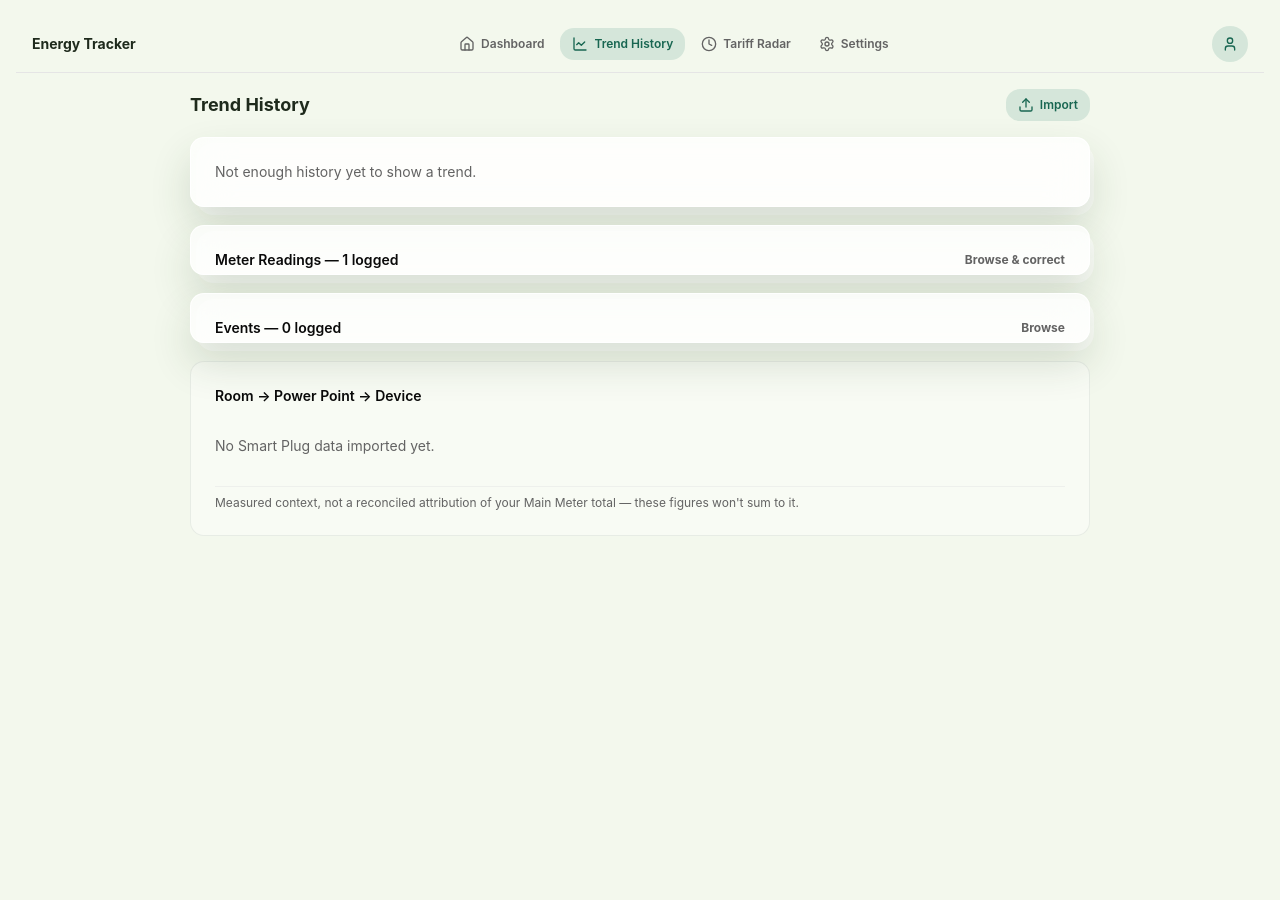
TrendHistoryPage › re-fetches Status history after a Meter Reading correction is saved (AC #3)
Click the heading "Meter Readings — 1 logged": [307, 260] box [215, 250, 398, 270]
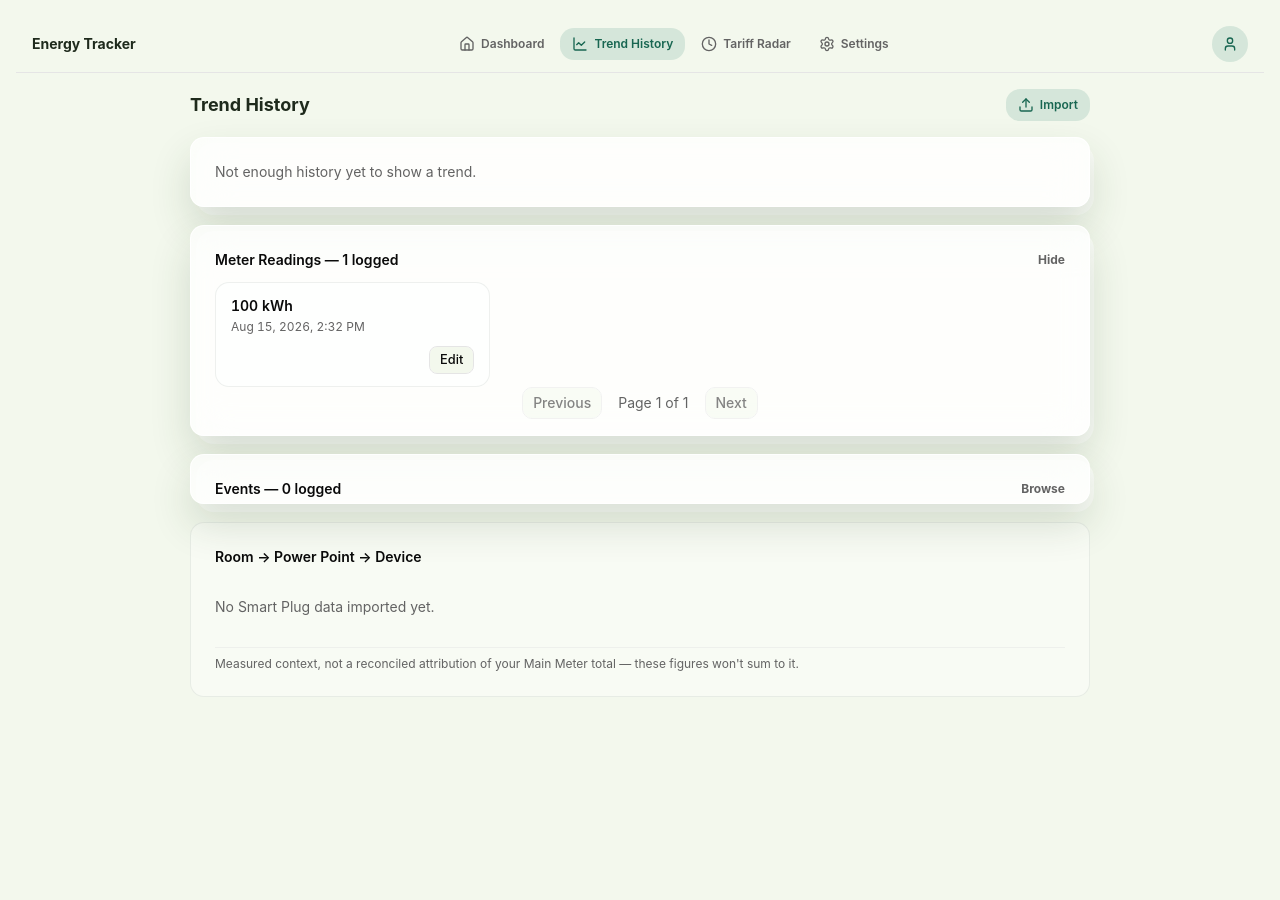
Click the button with aria-label "Edit reading from": [452, 360] box [429, 346, 474, 374]
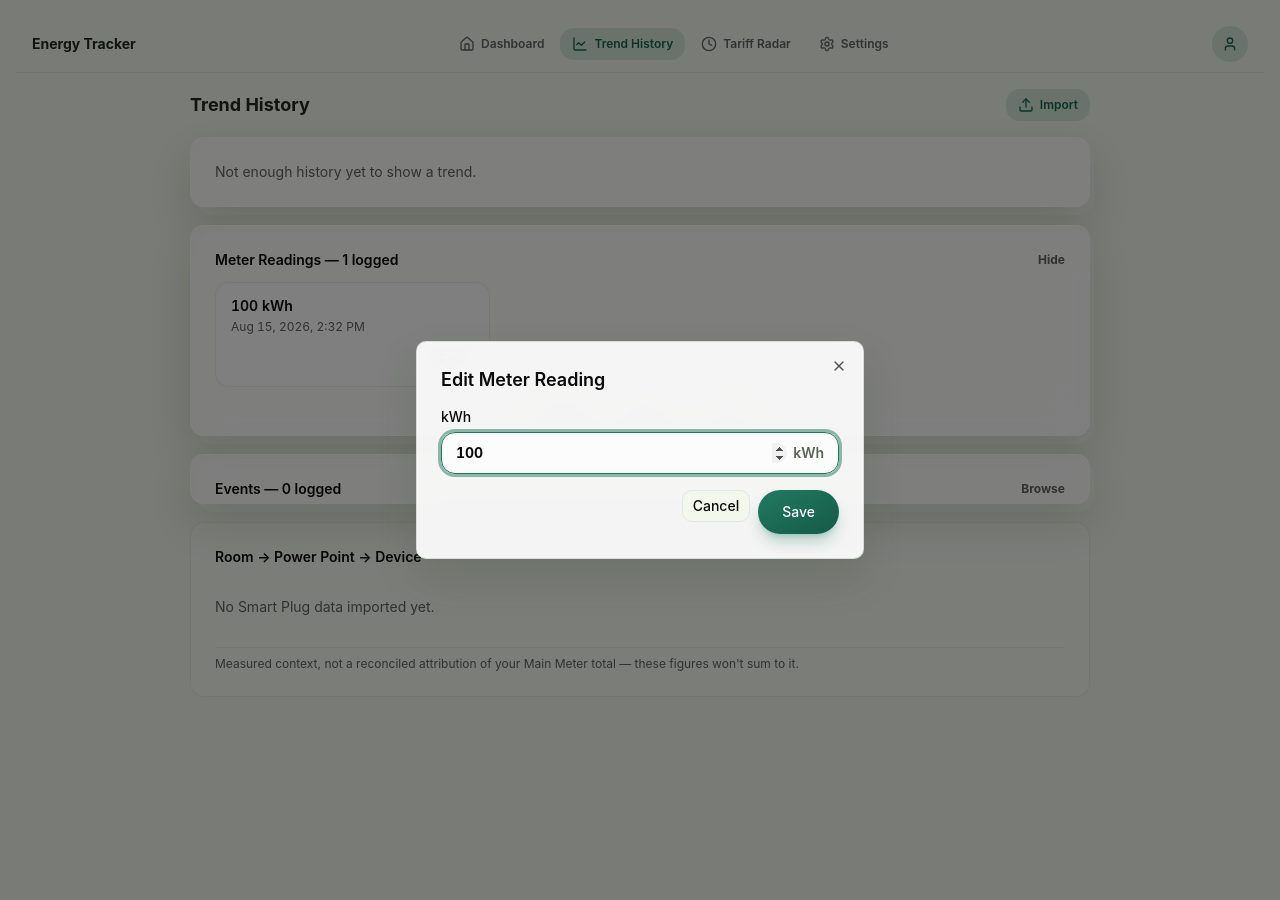
Click the button "Save": [799, 512] box [758, 490, 839, 534]
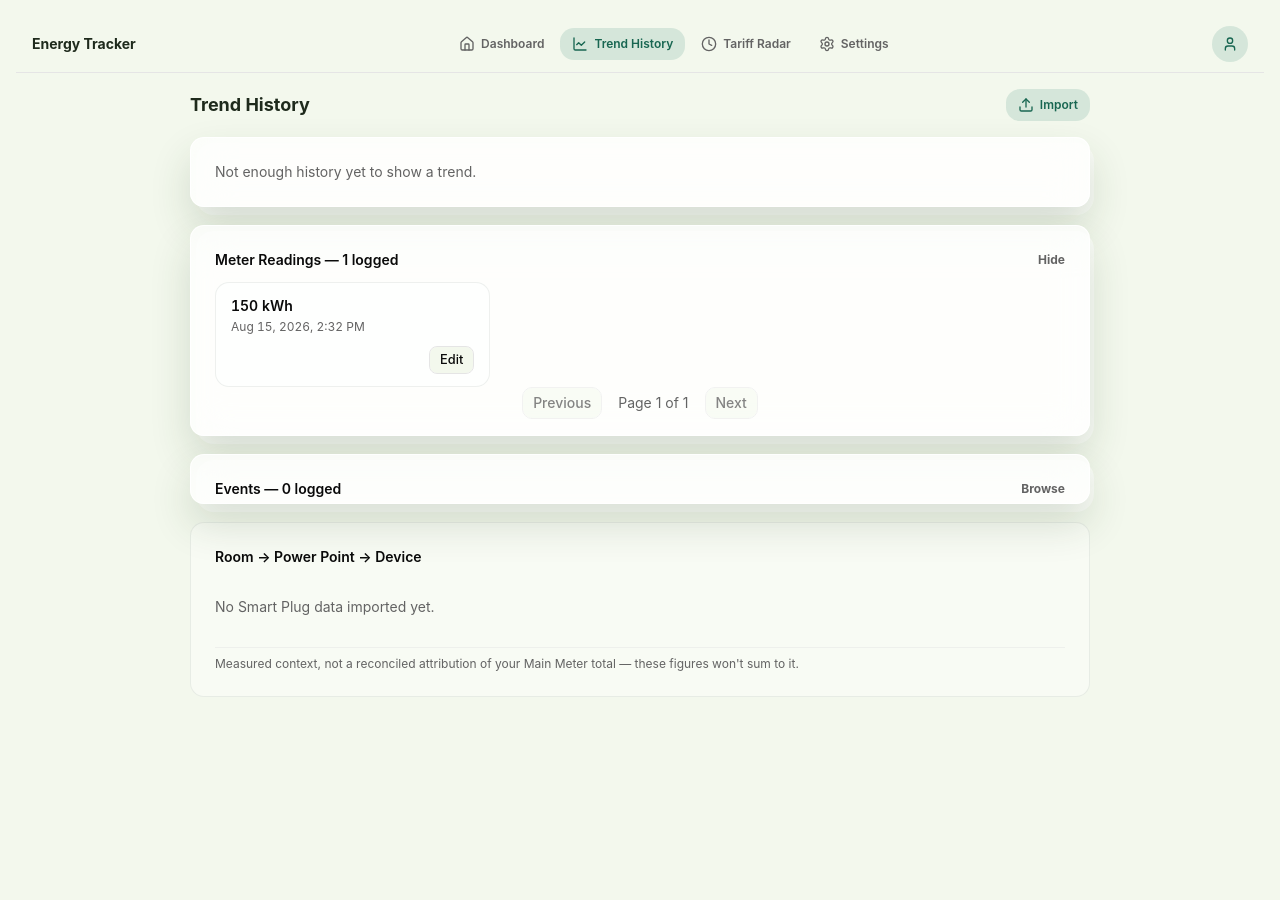
Expected: the text "150 kWh" is shown, [231, 296, 293, 316]
